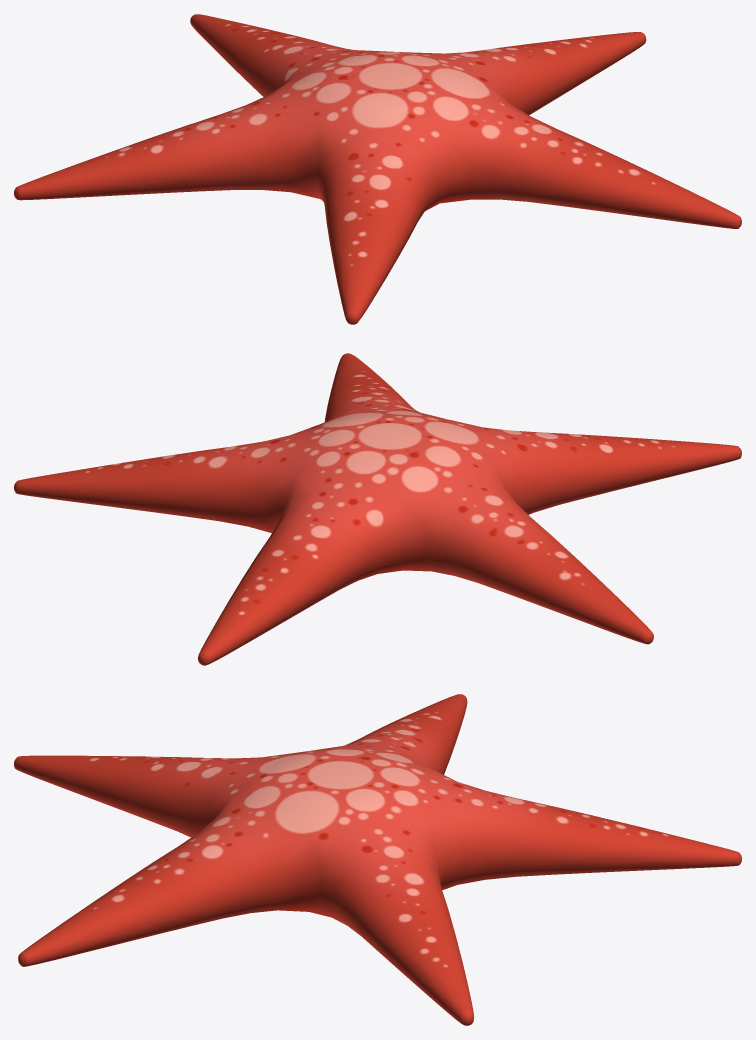
Rendered from 불가사리.FBX.
3 renders of one model, top to bottom at view 1: azimuth 30°, elevation 25°; view 2: azimuth 150°, elevation 25°; view 3: azimuth 270°, elevation 25°, orthographic. The views are drawn at different scales.
Parts seen in each view (by area): view 1: Cylinder001; view 2: Cylinder001; view 3: Cylinder001.
Boxes of the visible parts, bbox=[...] form: Cylinder001: bbox=[14, 14, 741, 324]; Cylinder001: bbox=[14, 353, 741, 665]; Cylinder001: bbox=[14, 694, 741, 1025].
Size of the model in its own units: 65.97 by 9.99 by 62.94.
